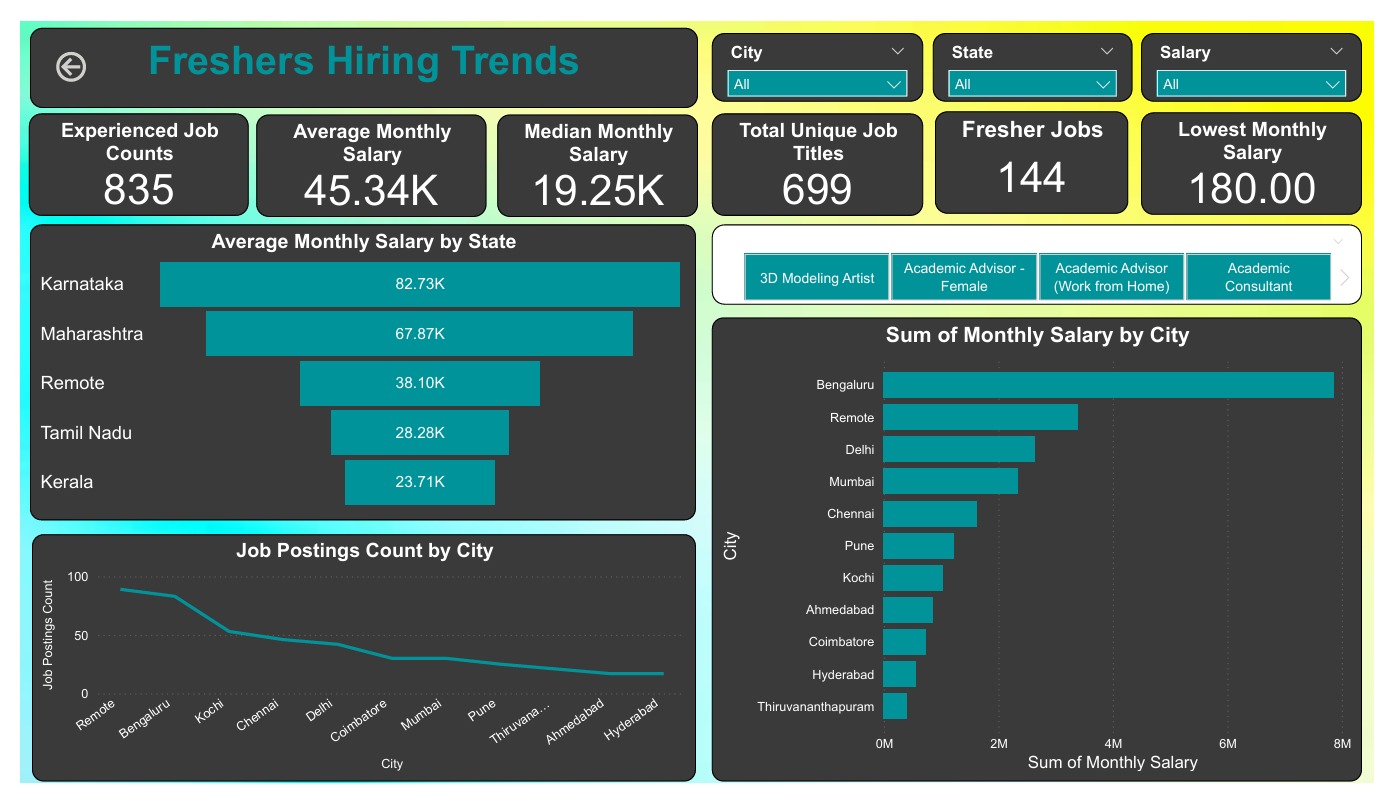

The dashboard page shown, as its layout file describes it:
{"tool":"powerbi","page":{"name":"Freshers Hiring Trends","canvas":[1280,720],"ordinal":10},"visuals":[{"type":"textbox","box":[9.1,6.1,631.4,75.7],"z":0},{"type":"card","title":"Experienced Job Counts","fields":{"Values":["job_market.Total Jobs"]},"box":[8.1,87.2,208.2,97],"z":1000},{"type":"card","title":"Average Monthly Salary","fields":{"Values":["job_market.Average Monthly Salary"]},"box":[222.6,87.8,218,97],"z":2000},{"type":"card","title":"Median Monthly Salary","fields":{"Values":["job_market.Median Monthly Salary"]},"box":[451.2,87.8,189.3,97],"z":3000},{"type":"card","title":"Total Unique Job Titles","fields":{"Values":["job_market.Total Unique Job Titles"]},"box":[653.7,87.2,200.1,97],"z":4000},{"type":"card","title":"Fresher Jobs","fields":{"Values":["job_market.Fresher Jobs"]},"box":[864.6,84.8,183.2,97],"z":5000},{"type":"card","title":"Lowest Monthly Salary","fields":{"Values":["job_market.Lowest Monthly Salary"]},"box":[1059.9,86.3,209,97],"z":6000},{"type":"slicer","fields":{"Values":["job_market.City"]},"box":[654.1,10.6,199.9,65.1],"z":7000},{"type":"slicer","fields":{"Values":["job_market.State"]},"box":[863.1,10.6,189.3,65.1],"z":8000},{"type":"slicer","fields":{"Values":["job_market.Salary"]},"box":[1059.9,10.6,209,65.1],"z":9000},{"type":"barChart","fields":{"Category":["job_market.City"],"Y":["Sum(job_market.Monthly Salary)"]},"box":[654.1,280.1,614.8,439.1],"z":10000},{"type":"funnel","fields":{"Category":["job_market.State"],"Y":["job_market.Average Monthly Salary"]},"box":[9.1,192.3,629.9,280.1],"z":11000},{"type":"slicer","fields":{"Values":["job_market.Job Title"]},"box":[654.1,192.3,614.8,75.7],"z":12000},{"type":"lineChart","fields":{"Category":["job_market.City"],"Y":["job_market.Job Postings Count"]},"box":[10.6,484.5,628.4,234.7],"z":13000},{"type":"actionButton","box":[28.8,24.2,62.1,37.9],"z":14000}]}

Visuals, with their boxes in screenshot pixels (x1, y1, x2, y2), scaled from the page's 1280x720 canvas onto the 1393x804 screenshot:
textbox: [10, 7, 697, 91]
"Experienced Job Counts" card: [9, 97, 235, 206]
"Average Monthly Salary" card: [242, 98, 479, 206]
"Median Monthly Salary" card: [491, 98, 697, 206]
"Total Unique Job Titles" card: [711, 97, 929, 206]
"Fresher Jobs" card: [941, 95, 1140, 203]
"Lowest Monthly Salary" card: [1153, 96, 1381, 205]
slicer - job_market.City: [712, 12, 929, 85]
slicer - job_market.State: [939, 12, 1145, 85]
slicer - job_market.Salary: [1153, 12, 1381, 85]
barChart - job_market.City x Sum(job_market.Monthly Salary): [712, 313, 1381, 803]
funnel - job_market.State x job_market.Average Monthly Salary: [10, 215, 695, 528]
slicer - job_market.Job Title: [712, 215, 1381, 299]
lineChart - job_market.City x job_market.Job Postings Count: [12, 541, 695, 803]
actionButton: [31, 27, 99, 69]
